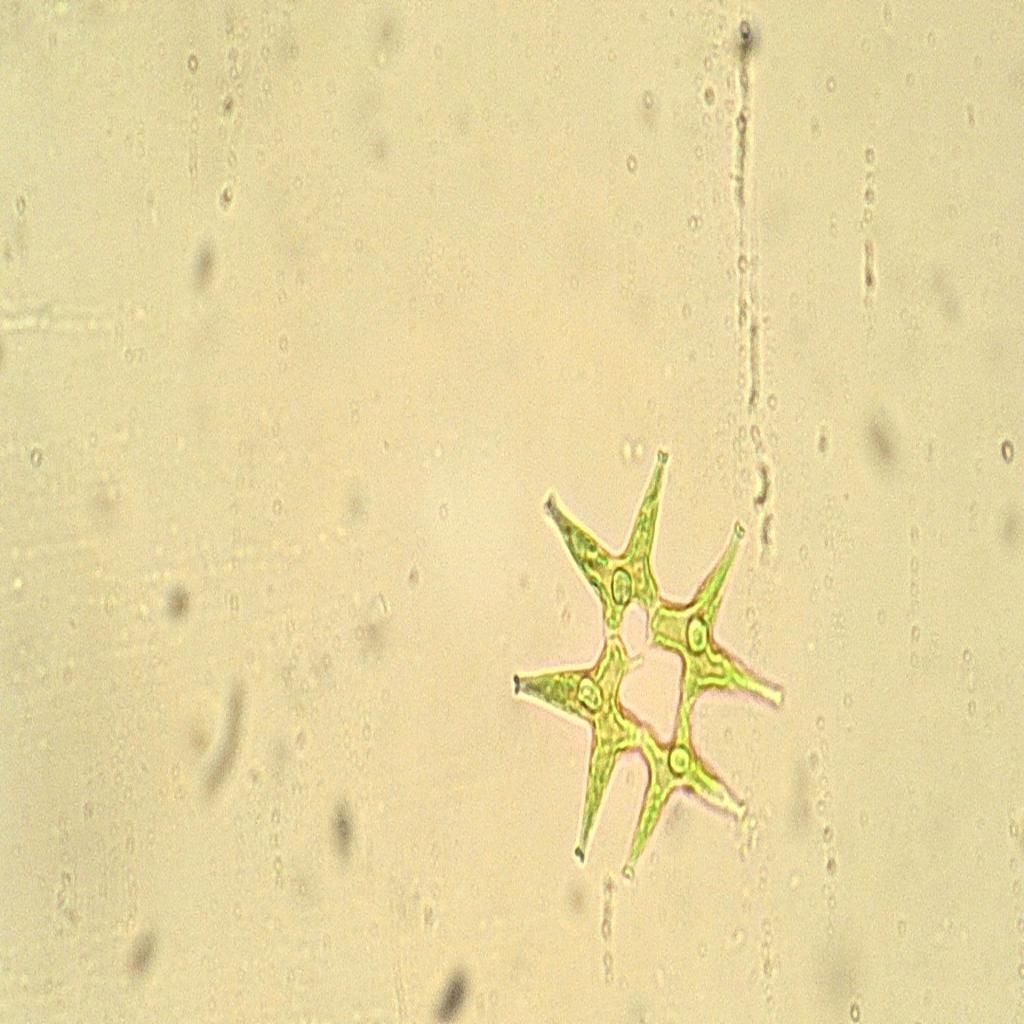Pediastrum_75FO: (494, 431, 796, 920)
